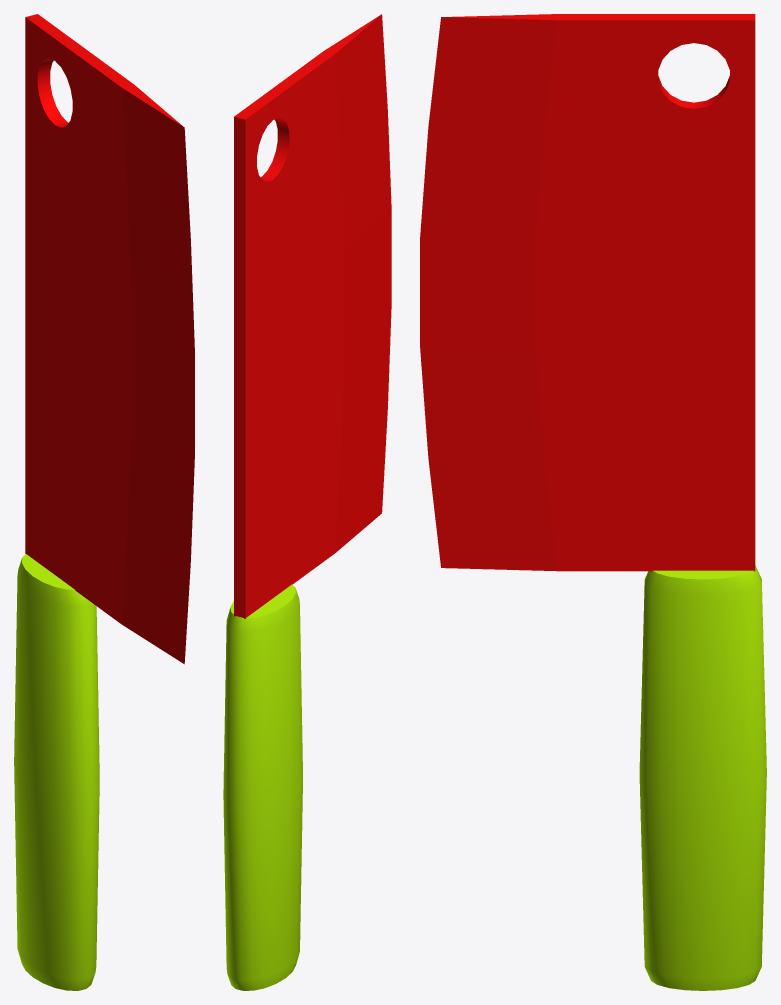
File: ButcherKnife.fbx
The picture shows the model from 3 angles, left to right: view 1: azimuth 30°, elevation 25°; view 2: azimuth 150°, elevation 25°; view 3: azimuth 270°, elevation 25°; orthographic projection. The views are drawn at different scales.
Parts seen in each view (by area): view 1: Cylinder001; view 2: Cylinder001; view 3: Cylinder001.
Part boxes in pixels (x1,y1,x2,y2): Cylinder001: (14, 14, 194, 990); Cylinder001: (223, 14, 391, 990); Cylinder001: (420, 14, 766, 990).
Size of the model in its own units: 8.02 by 122 by 39.77.
